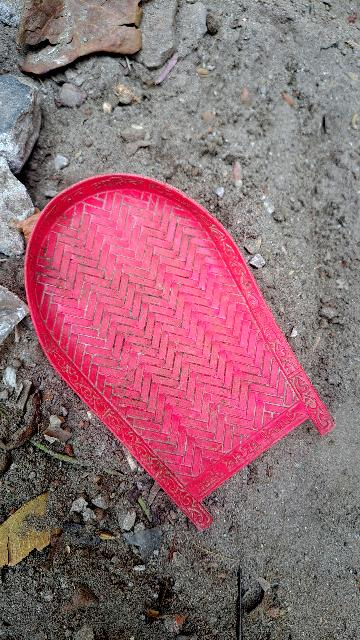hardplastic: (0, 139, 346, 525)
